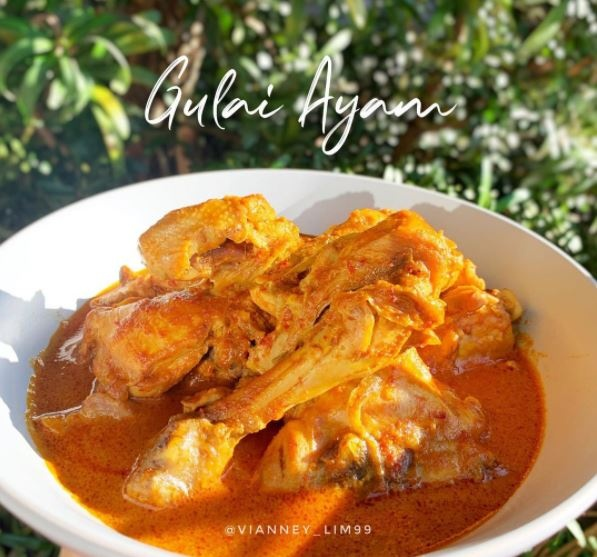gulai_ayam: (16, 193, 563, 557)
